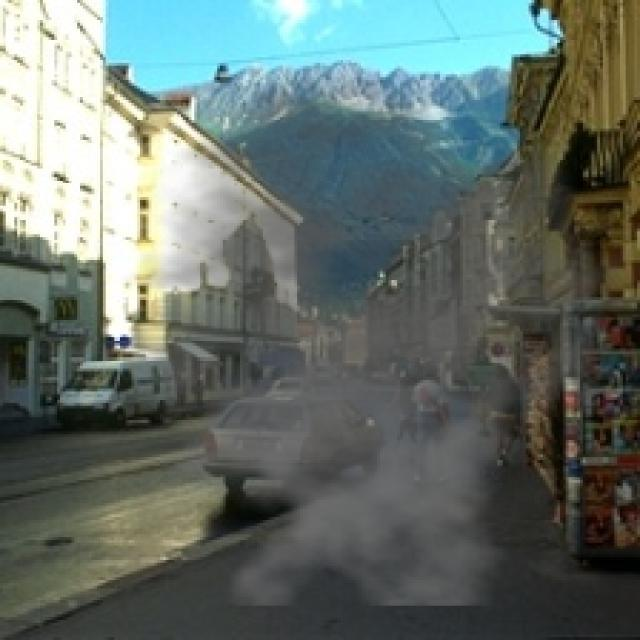Smoke: (77, 74, 632, 606)
